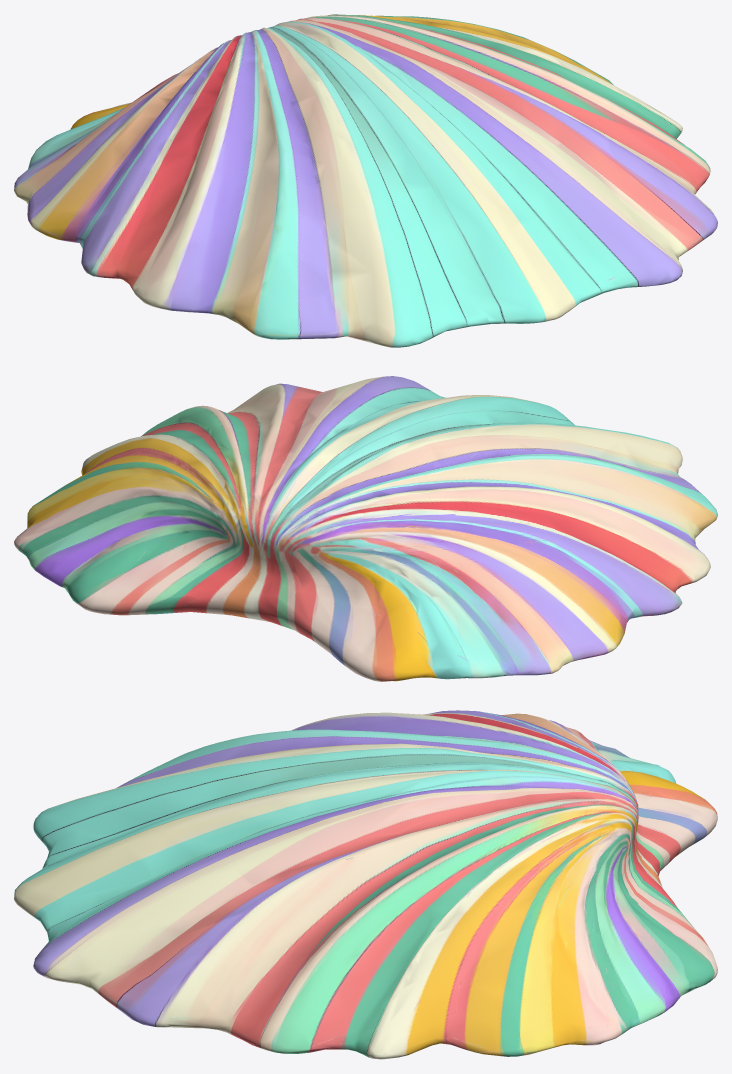
Rendered from static.glb.
3 renders of one model, top to bottom at view 1: azimuth 30°, elevation 25°; view 2: azimuth 150°, elevation 25°; view 3: azimuth 270°, elevation 25°, orthographic. The views are drawn at different scales.
Visible parts, largest first — view 1: Mesh_0; view 2: Mesh_0; view 3: Mesh_0.
Part boxes in pixels (box(x1,y1,x2,y2)): Mesh_0: box(14, 14, 717, 347); Mesh_0: box(14, 376, 717, 681); Mesh_0: box(14, 710, 717, 1059).
Size of the model in its own units: 1.9 by 0.401 by 1.76.
Materials: 1 (1 with a texture image).
